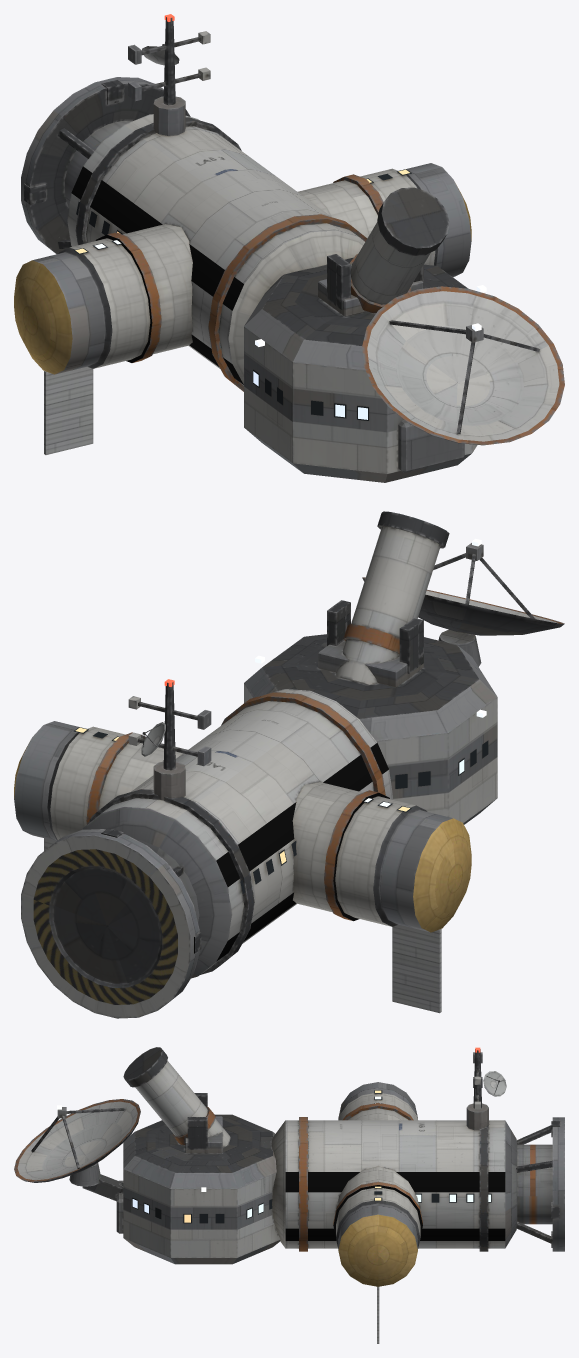
Rendered from addon_science.glb.
3 views of the same model, one above another, from view 1: azimuth 30°, elevation 25°; view 2: azimuth 150°, elevation 25°; view 3: azimuth 270°, elevation 25° (orthographic). The views are drawn at different scales.
Visible parts, largest first — view 1: addon_science_hull, addon_science_lights; view 2: addon_science_hull, addon_science_lights; view 3: addon_science_hull, addon_science_lights.
Part boxes in pixels (x1,y1,x2,y2): addon_science_hull: (14, 17, 564, 482); addon_science_lights: (74, 14, 486, 420); addon_science_hull: (14, 511, 564, 1018); addon_science_lights: (73, 538, 488, 893); addon_science_hull: (14, 1047, 564, 1343); addon_science_lights: (57, 1047, 491, 1223).
Size of the model in its own units: 27 by 20.32 by 44.25.
7 materials, 1 textured.
